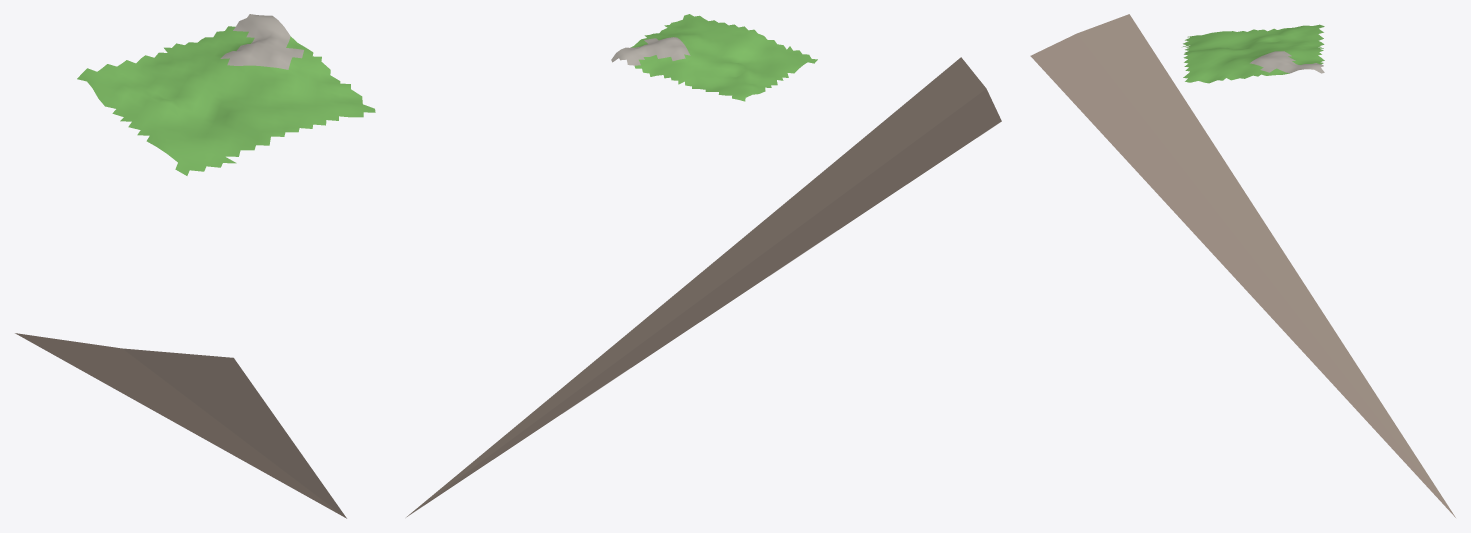
Rendered from flagship_terrain_212.glb.
3 views of the same model, side by side, from view 1: azimuth 30°, elevation 25°; view 2: azimuth 150°, elevation 25°; view 3: azimuth 270°, elevation 25° (orthographic). The views are drawn at different scales.
Visible parts, largest first — view 1: Terrain_212; view 2: Terrain_212; view 3: Terrain_212.
Boxes of the visible parts, x1,y1,x2,y2 form: Terrain_212: (15,14,375,518); Terrain_212: (406,14,1001,517); Terrain_212: (1030,14,1455,517).
Size of the model in its own units: 95.2 by 96.67 by 95.2.
